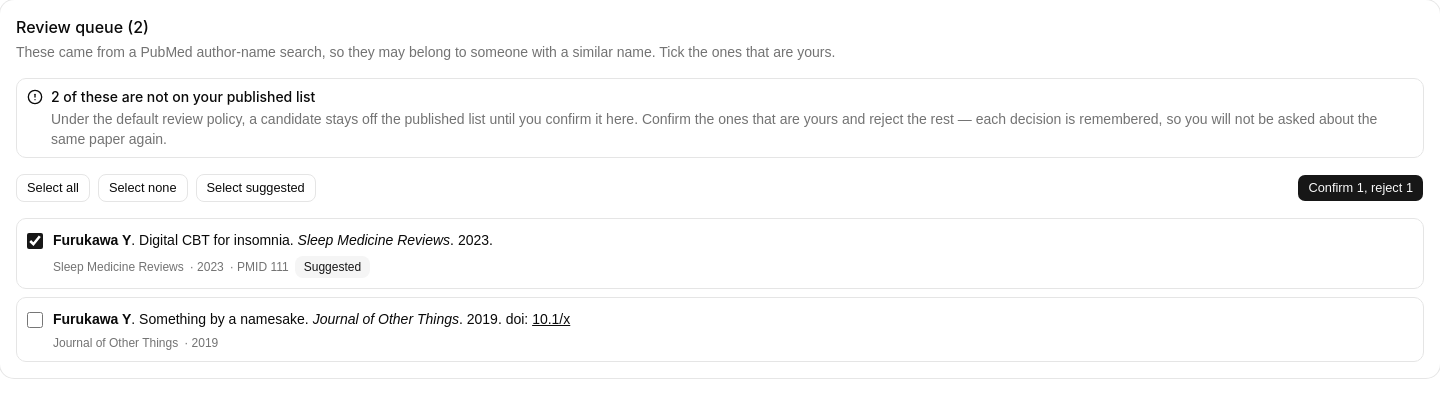
check / uncheck → include / exclude › restores the pipeline suggestion with "Select suggested"
Click the button "Select all" at (53, 188), box [16,174,90,202]
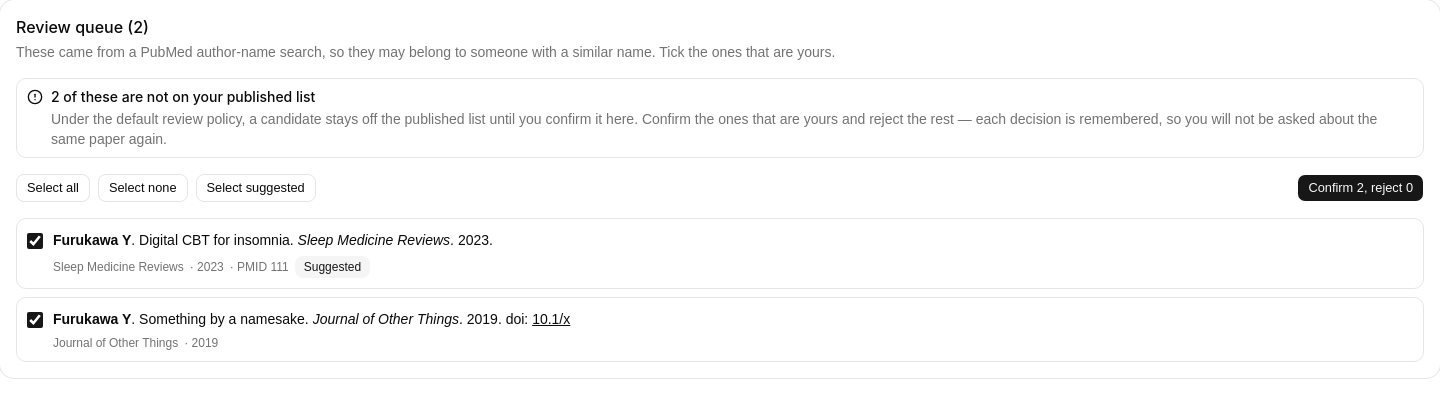
Click the button "Select suggested" at (256, 188), box [196,174,316,202]
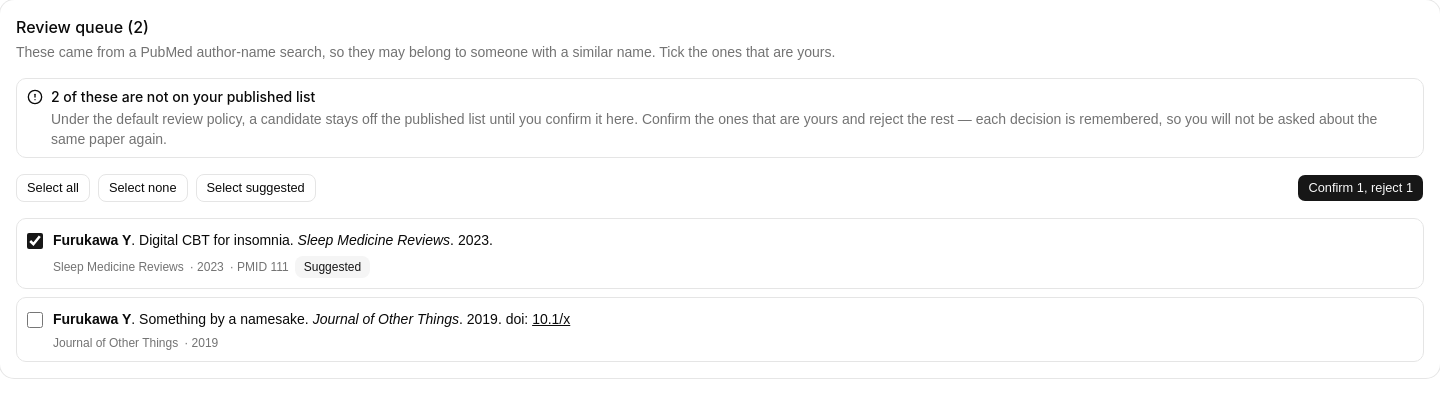
Check: the 1st checkbox is checked, box [27,233,43,249]
Check: the 2nd checkbox is not checked, box [27,312,43,328]
